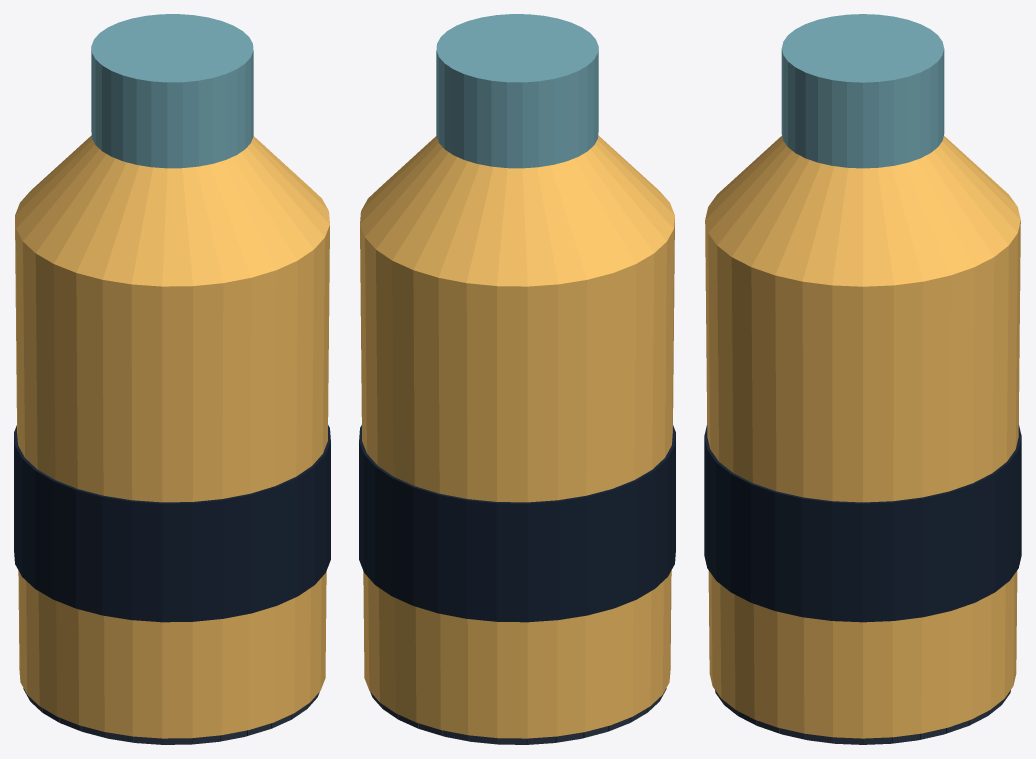
Rendered from bottle.glb.
3 views of the same model, side by side, from view 1: azimuth 30°, elevation 25°; view 2: azimuth 150°, elevation 25°; view 3: azimuth 270°, elevation 25° (orthographic).
Parts seen in each view (by area): view 1: bottle body, grip band, shoulder, bottle cap; view 2: bottle body, grip band, shoulder, bottle cap; view 3: bottle body, grip band, shoulder, bottle cap.
Boxes of the visible parts, x1=… form: bottle body: x1=15, y1=219, x2=329, y2=738; grip band: x1=14, y1=425, x2=330, y2=622; shoulder: x1=15, y1=135, x2=329, y2=286; bottle cap: x1=91, y1=14, x2=253, y2=168; bottle body: x1=360, y1=219, x2=674, y2=738; grip band: x1=359, y1=425, x2=675, y2=622; shoulder: x1=360, y1=135, x2=674, y2=286; bottle cap: x1=436, y1=14, x2=598, y2=168; bottle body: x1=705, y1=220, x2=1020, y2=738; grip band: x1=704, y1=425, x2=1021, y2=622; shoulder: x1=705, y1=136, x2=1020, y2=286; bottle cap: x1=781, y1=14, x2=944, y2=168.
Bounding box in the file's own units: 0.704 × 1.55 × 0.704.
